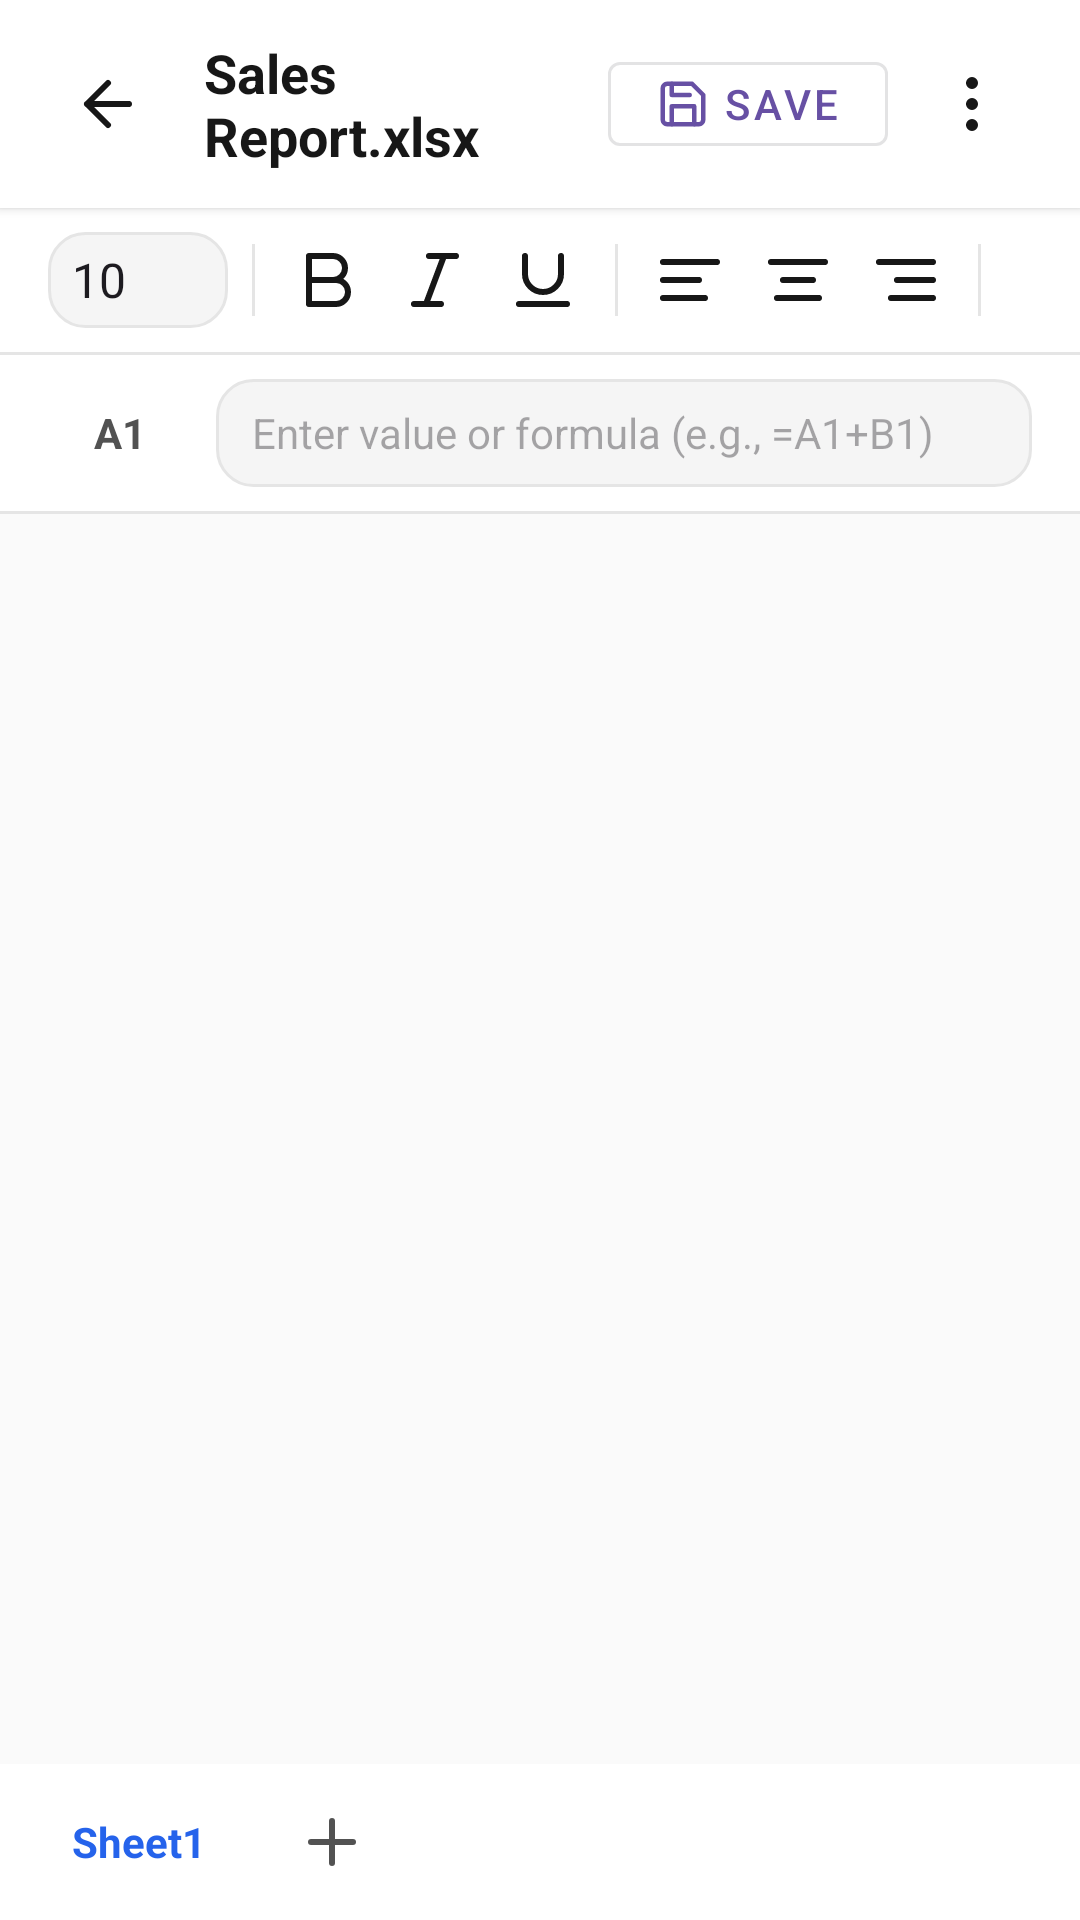

Icons on this 1080x1920 Android screen, each with its box as {"x1": x1, "y1": y1, "x2": x2, "y2": y2}:
add: {"x1": 308, "y1": 1818, "x2": 356, "y2": 1866}
align center: {"x1": 768, "y1": 259, "x2": 828, "y2": 301}
align left: {"x1": 660, "y1": 259, "x2": 720, "y2": 301}
align right: {"x1": 876, "y1": 259, "x2": 936, "y2": 301}
arrow left: {"x1": 84, "y1": 80, "x2": 132, "y2": 128}
italic: {"x1": 411, "y1": 253, "x2": 459, "y2": 307}
more vertical: {"x1": 966, "y1": 77, "x2": 978, "y2": 131}
underline: {"x1": 516, "y1": 253, "x2": 570, "y2": 307}
